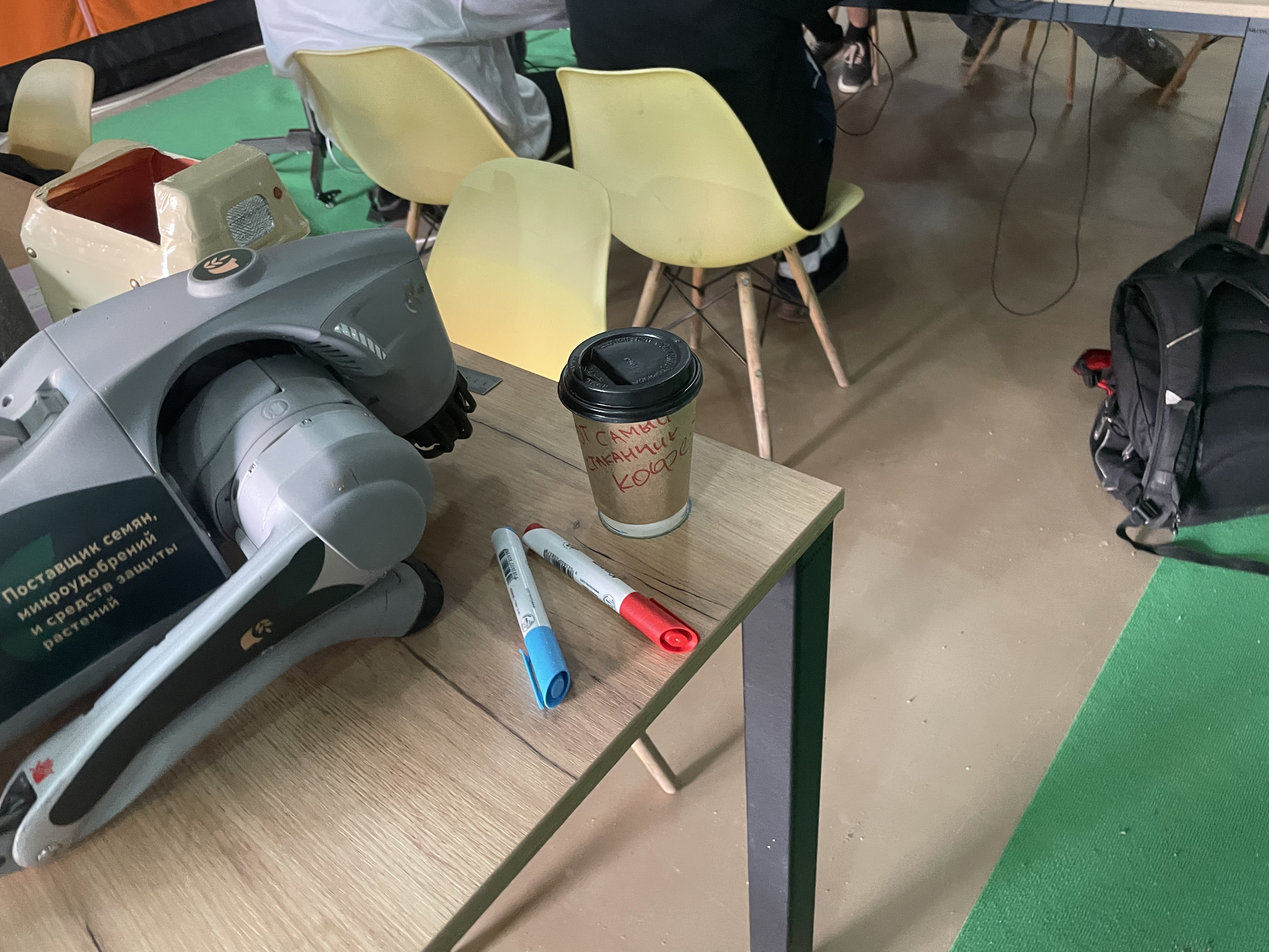cup: (557, 327, 703, 539)
